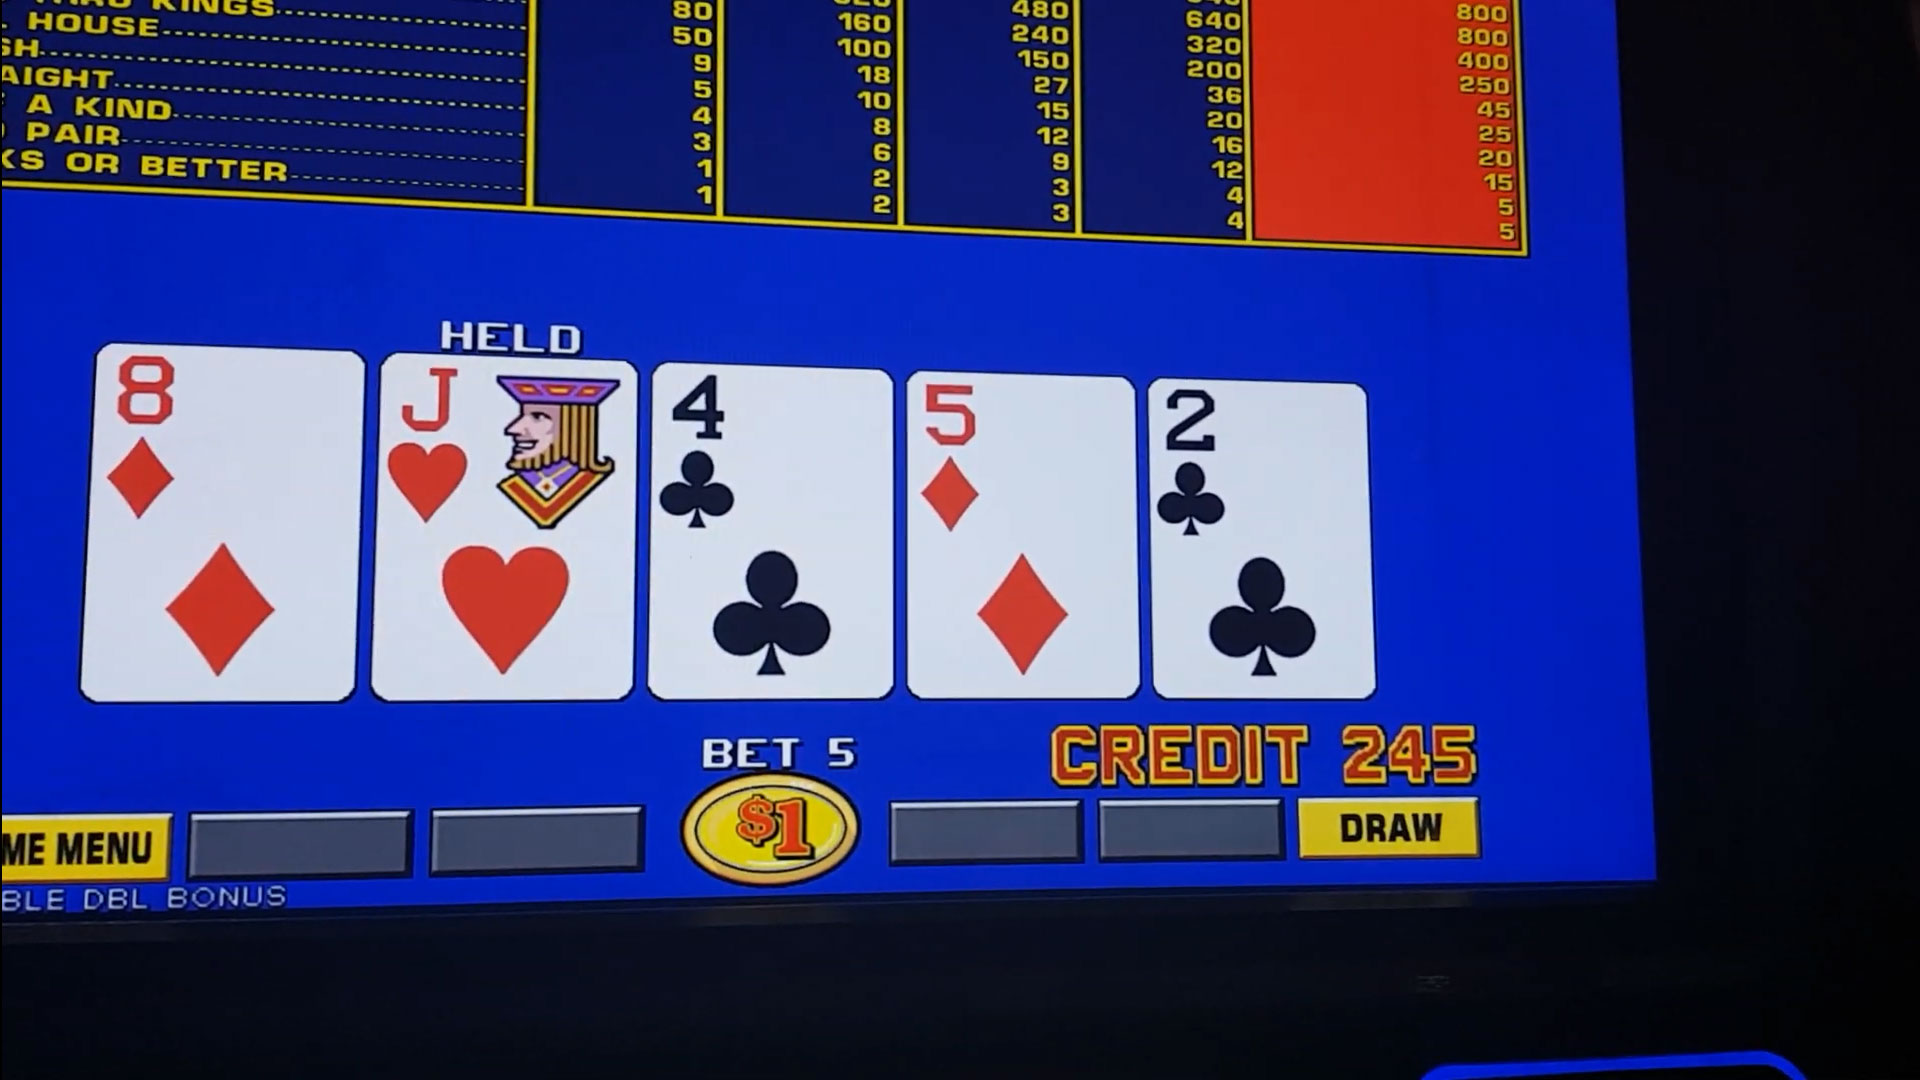C2: (1158, 385, 1366, 549)
C4: (654, 373, 885, 542)
D5: (911, 380, 1131, 545)
D8: (94, 357, 357, 533)
HJ: (382, 359, 630, 543)
